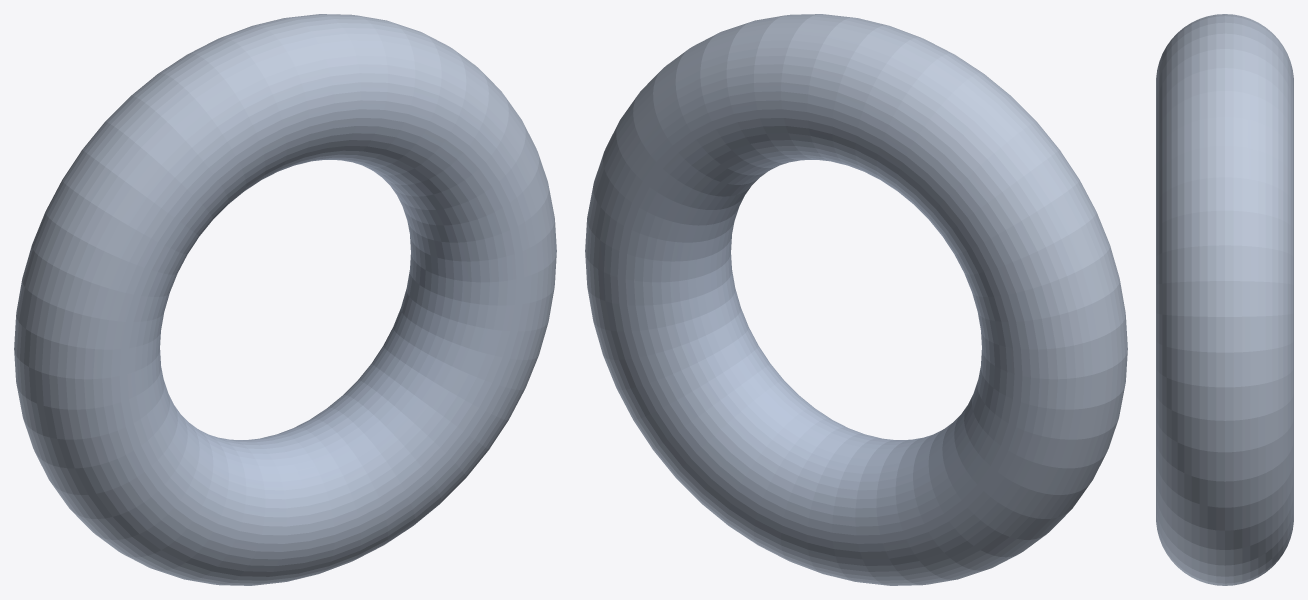
The picture shows the model from 3 angles, left to right: view 1: azimuth 30°, elevation 25°; view 2: azimuth 150°, elevation 25°; view 3: azimuth 270°, elevation 25°; orthographic projection. The views are drawn at different scales.
Parts seen in each view (by area): view 1: world; view 2: world; view 3: world.
Boxes of the visible parts, <box> form: world: <box>14,14,556,585</box>; world: <box>585,14,1127,585</box>; world: <box>1156,14,1293,585</box>.
Size of the model in its own units: 23.73 by 23.69 by 5.72.
